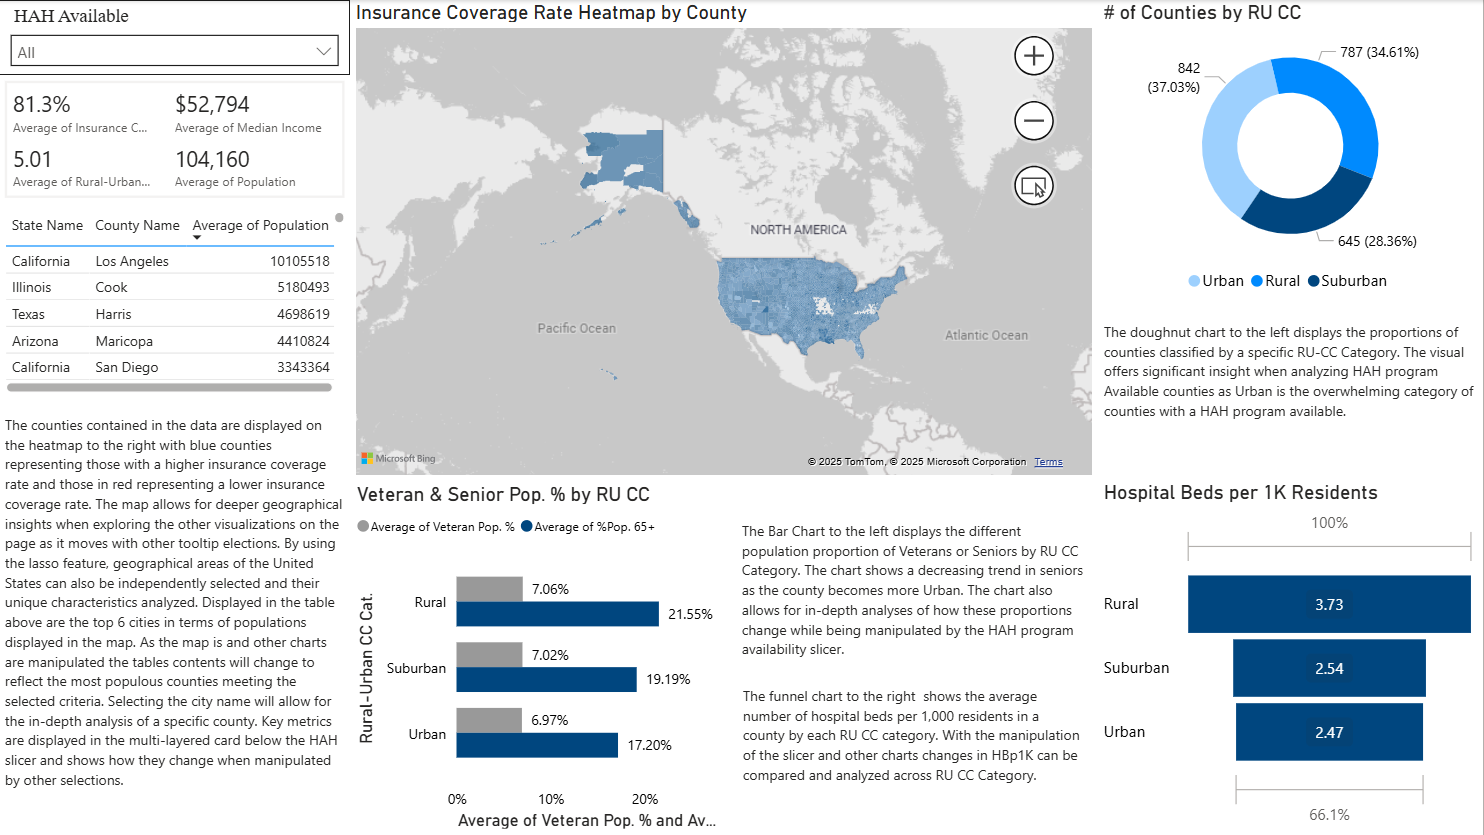

This screenshot's page, from the dashboard's own definition file:
{"tool":"powerbi","page":{"name":"Page 1","canvas":[1280,720],"ordinal":0},"visuals":[{"type":"filledMap","title":"Insurance Coverage Rate Heatmap by County","fields":{"Category":["Analysis Vars.Formatted Location"]},"box":[303,0,645,415],"z":0},{"type":"slicer","fields":{"Values":["Analysis Vars.HAH Available "]},"box":[0,0,303,65],"z":1000},{"type":"donutChart","title":"# of Counties by RU CC","fields":{"Category":["Analysis Vars. Rural-Urban CC Cat."],"Y":["Count(Analysis Vars. County Name                            )"]},"box":[948.3,0,331.7,261.6],"z":2000},{"type":"funnel","title":"Hospital Beds per 1K Residents","fields":{"Y":["Avg(Analysis Vars.H.Beds per 1K Residents)"],"Category":["Analysis Vars. Rural-Urban CC Cat."]},"box":[948.3,414.3,331.7,305.4],"z":3000},{"type":"clusteredBarChart","title":"Veteran & Senior Pop. % by RU CC","fields":{"Category":["Analysis Vars. Rural-Urban CC Cat."],"Y":["Avg(Analysis Vars.Veteran Pop. %)","Avg(Analysis Vars.%Pop. 65+)"]},"box":[303.5,415.3,332.6,304.4],"z":4000},{"type":"multiRowCard","fields":{"Values":["Avg(Analysis Vars.Insurance Coverage Rate)","Avg(Analysis Vars.Median Income)","Analysis Vars. Rural-Urban Continuum Code   2013","Avg(Analysis Vars.Population)"]},"box":[0,65,303,113],"z":5000},{"type":"tableEx","fields":{"Values":["Analysis Vars. State Name                             ","Analysis Vars. County Name                            ","Avg(Analysis Vars.Population)"]},"box":[0,178,303.5,166.3],"z":6000},{"type":"textbox","box":[0,352.1,303.5,367.7],"z":8000},{"type":"textbox","box":[948.3,271.4,331.7,124.5],"z":9000},{"type":"textbox","box":[636.1,443.5,304.4,143],"z":10000},{"type":"textbox","box":[636.7,585.9,303.3,134.5],"z":11000}]}

Visuals, with their boxes in screenshot pixels (x1, y1, x2, y2), scaled from the page's 1280x720 canvas onto the 1484x835 screenshot:
"Insurance Coverage Rate Heatmap by County" filledMap: <box>351,0,1099,481</box>
slicer - Analysis Vars.HAH Available : <box>0,0,351,75</box>
"# of Counties by RU CC" donutChart: <box>1099,0,1483,303</box>
"Hospital Beds per 1K Residents" funnel: <box>1099,480,1483,834</box>
"Veteran & Senior Pop. % by RU CC" clusteredBarChart: <box>352,482,737,834</box>
multiRowCard - Avg(Analysis Vars.Insurance Coverage Rate) x Avg(Analysis Vars.Median Income): <box>0,75,351,206</box>
tableEx - Analysis Vars. State Name                              x Analysis Vars. County Name                            : <box>0,206,352,399</box>
textbox: <box>0,408,352,834</box>
textbox: <box>1099,315,1483,459</box>
textbox: <box>737,514,1090,680</box>
textbox: <box>738,679,1090,834</box>
